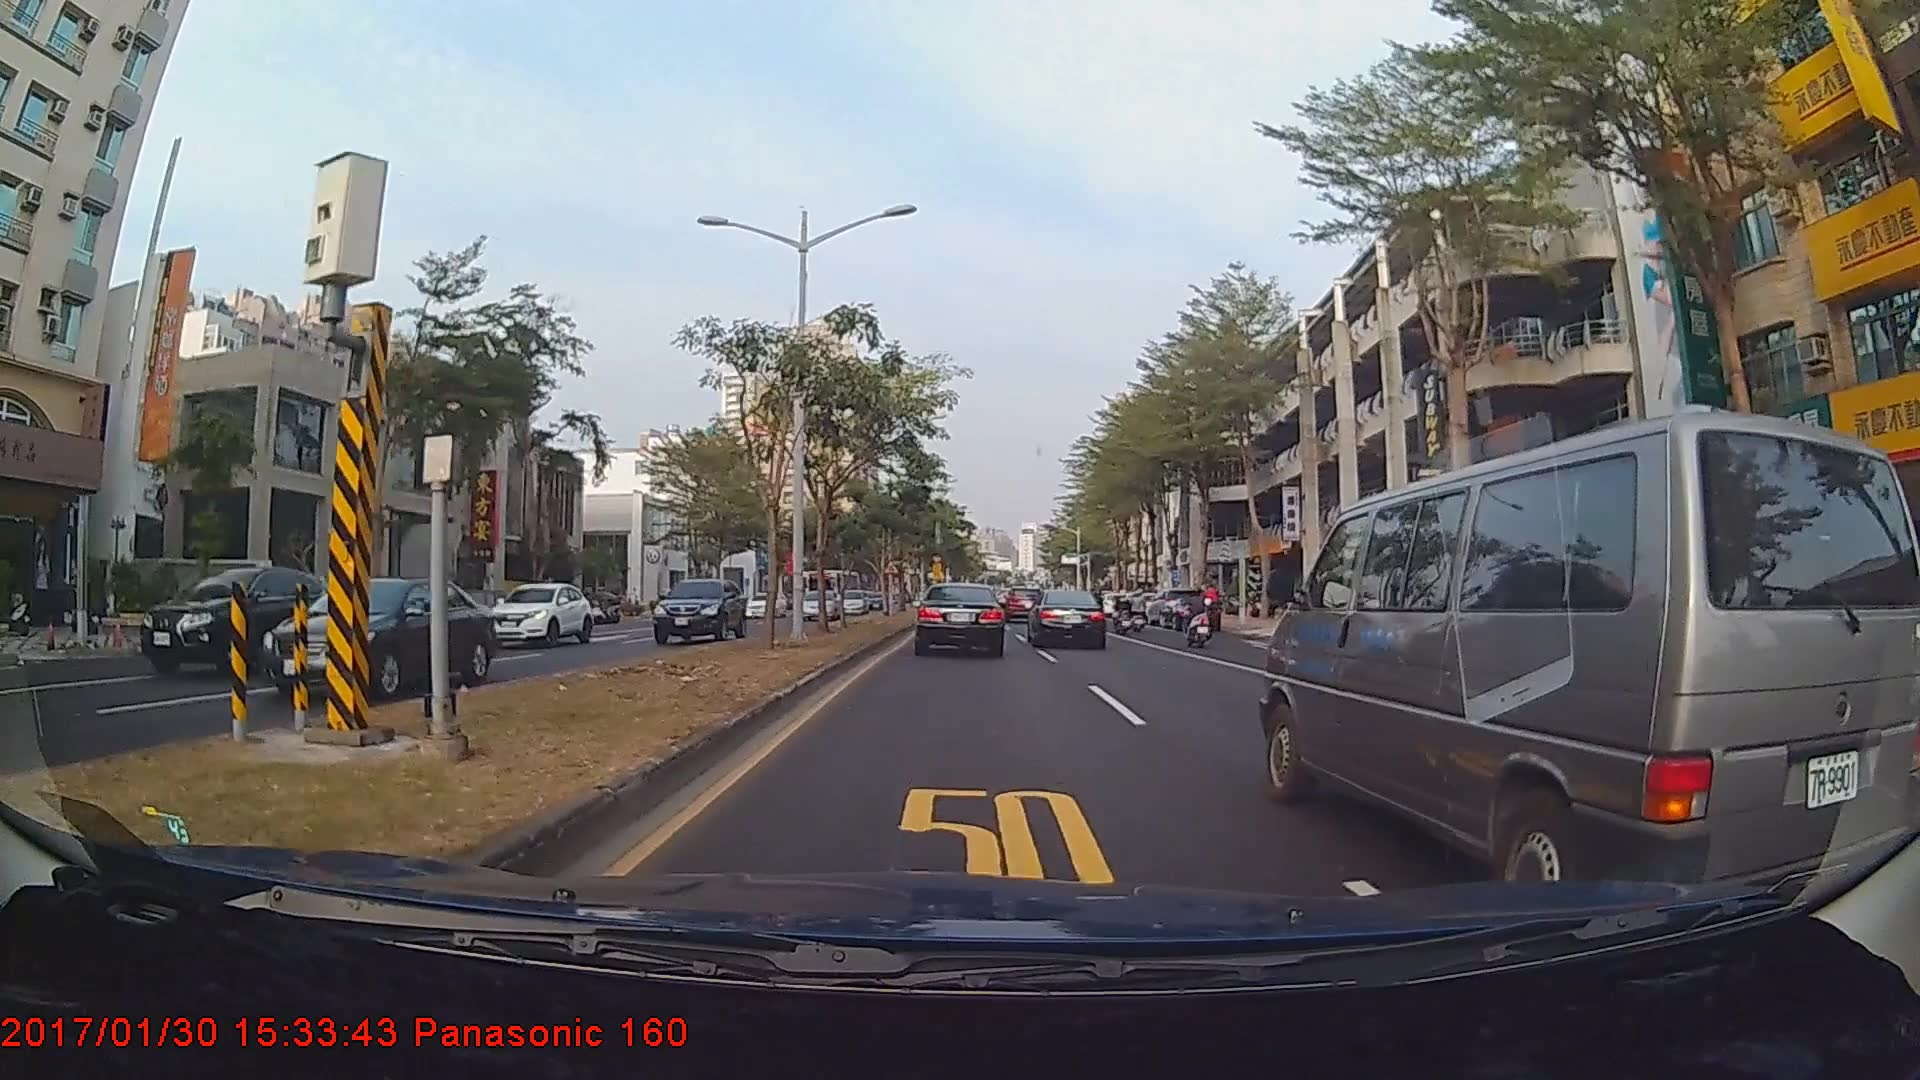rider: (1177, 581, 1216, 650)
vehicle: (1249, 404, 1891, 911), (253, 572, 498, 705), (138, 564, 340, 679), (483, 578, 593, 645), (915, 579, 1004, 656), (648, 574, 744, 643), (1029, 588, 1107, 649), (1156, 594, 1222, 632), (797, 590, 839, 622), (1003, 579, 1042, 613), (741, 588, 787, 616)
